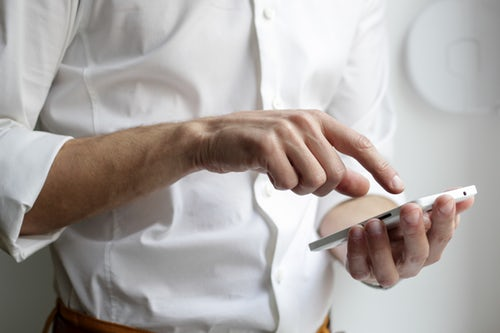phone: (306, 180, 478, 257)
